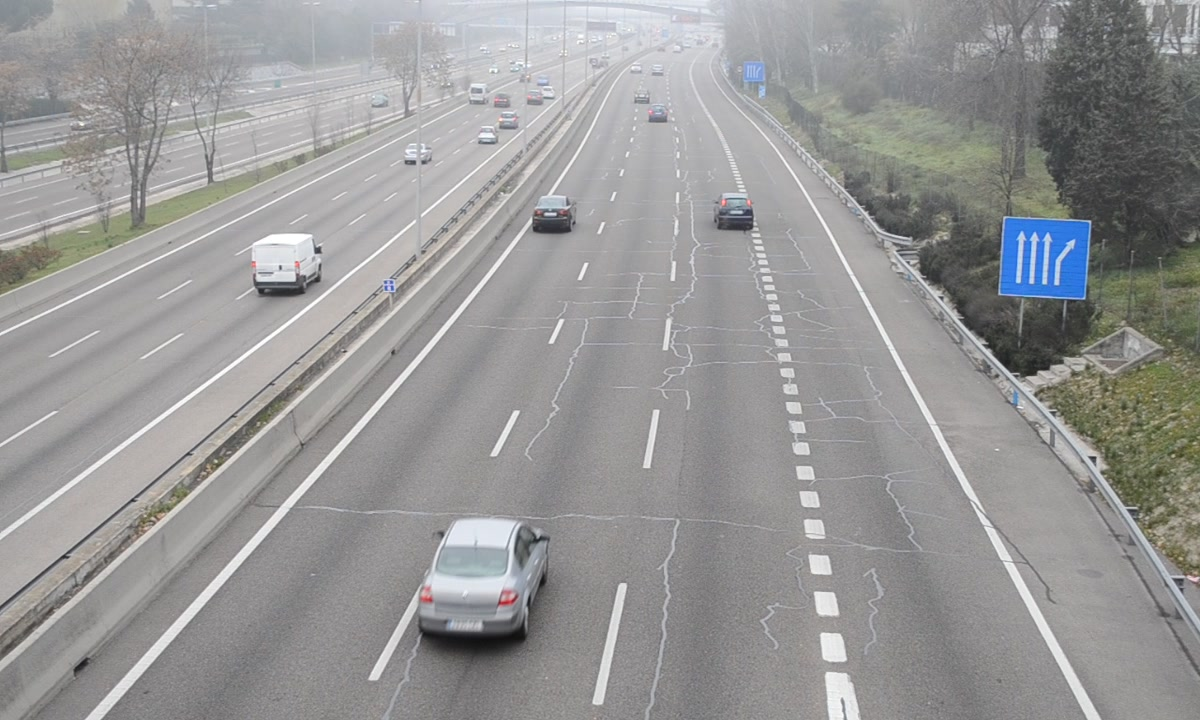car: (416, 520, 547, 639), (532, 194, 575, 231), (715, 192, 755, 229)
